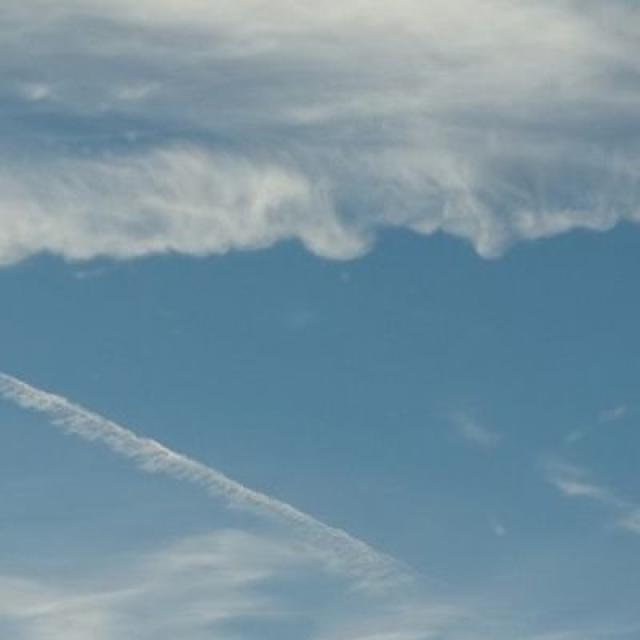Ci: (7, 1, 640, 590)
